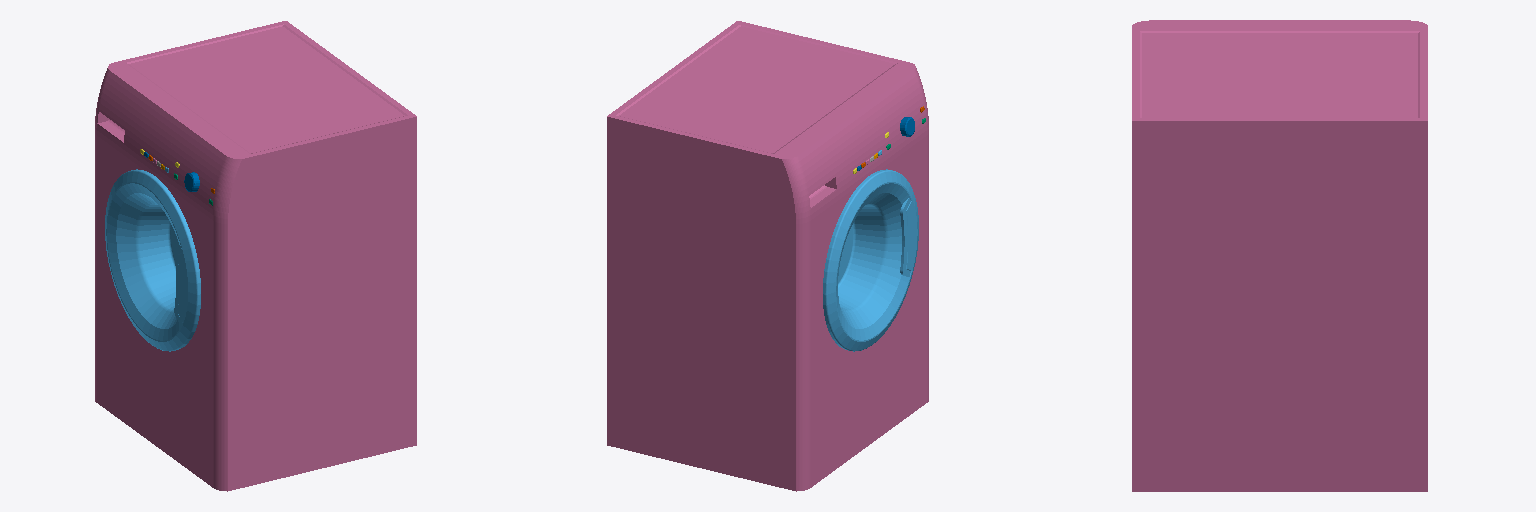
URDF robot description (partnet_5528ee64-7656-40e4-8db0-70fd39427b4d):
<robot name="partnet_5528ee64-7656-40e4-8db0-70fd39427b4d">
	<link name="base"><inertial><mass value="1.0" /><inertia ixx="0.1" ixy="0.0" ixz="0.0" iyy="0.1" iyz="0.0" izz="0.1" /></inertial></link>
	<link name="link_0">
		<visual name="door-1">
			<origin xyz="0.4072588466200967 0 -0.47978450750466395" />
			<geometry>
				<mesh filename="textured_objs/original-9.obj" />
			</geometry>
		</visual>
		<visual name="door-1">
			<origin xyz="0.4072588466200967 0 -0.47978450750466395" />
			<geometry>
				<mesh filename="textured_objs/original-6.obj" />
			</geometry>
		</visual>
		<visual name="door-1">
			<origin xyz="0.4072588466200967 0 -0.47978450750466395" />
			<geometry>
				<mesh filename="textured_objs/original-7.obj" />
			</geometry>
		</visual>
		<visual name="door-1">
			<origin xyz="0.4072588466200967 0 -0.47978450750466395" />
			<geometry>
				<mesh filename="textured_objs/original-8.obj" />
			</geometry>
		</visual>
		<inertial><mass value="1.0" /><inertia ixx="0.1" ixy="0.0" ixz="0.0" iyy="0.1" iyz="0.0" izz="0.1" /></inertial></link>
	<joint name="joint_0" type="fixed">
		<origin xyz="-0.4072588466200967 0 0.47978450750466395" />
		<axis xyz="0 -1 0" />
		<child link="link_0" />
		<parent link="link_13" />
		<limit lower="-0.0" upper="2.0169024836046465" />
	</joint>
	<link name="link_1">
		<visual name="button-2">
			<origin xyz="-0.4556865 -0.4984525393315501 0.04360297831185499" />
			<geometry>
				<mesh filename="textured_objs/original-62.obj" />
			</geometry>
		</visual>
		<inertial><mass value="1.0" /><inertia ixx="0.1" ixy="0.0" ixz="0.0" iyy="0.1" iyz="0.0" izz="0.1" /></inertial></link>
	<joint name="joint_1" type="fixed">
		<origin xyz="0.4556865 0.4984525393315501 -0.04360297831185499" />
		<axis xyz="0 -0.08714390893003397 -0.996195733345809" />
		<child link="link_1" />
		<parent link="link_13" />
		<limit lower="0" upper="0.0020000000000000035" />
	</joint>
	<link name="link_2">
		<visual name="button-3">
			<origin xyz="0.125865 -0.4984525393315501 0.04360297831185499" />
			<geometry>
				<mesh filename="textured_objs/original-64.obj" />
			</geometry>
		</visual>
		<inertial><mass value="1.0" /><inertia ixx="0.1" ixy="0.0" ixz="0.0" iyy="0.1" iyz="0.0" izz="0.1" /></inertial></link>
	<joint name="joint_2" type="fixed">
		<origin xyz="-0.125865 0.4984525393315501 -0.04360297831185499" />
		<axis xyz="0 -0.08714390893003396 -0.996195733345809" />
		<child link="link_2" />
		<parent link="link_13" />
		<limit lower="0" upper="0.0020000000000000035" />
	</joint>
	<link name="link_3">
		<visual name="button-4">
			<origin xyz="0.090793 -0.4984525393315501 0.04360297831185499" />
			<geometry>
				<mesh filename="textured_objs/original-66.obj" />
			</geometry>
		</visual>
		<inertial><mass value="1.0" /><inertia ixx="0.1" ixy="0.0" ixz="0.0" iyy="0.1" iyz="0.0" izz="0.1" /></inertial></link>
	<joint name="joint_3" type="fixed">
		<origin xyz="-0.090793 0.4984525393315501 -0.04360297831185499" />
		<axis xyz="0 -0.08714390893003396 -0.996195733345809" />
		<child link="link_3" />
		<parent link="link_13" />
		<limit lower="0" upper="0.0020000000000000035" />
	</joint>
	<link name="link_4">
		<visual name="button-5">
			<origin xyz="0.05572099999999999 -0.4984525393315501 0.04360297831185499" />
			<geometry>
				<mesh filename="textured_objs/original-59.obj" />
			</geometry>
		</visual>
		<inertial><mass value="1.0" /><inertia ixx="0.1" ixy="0.0" ixz="0.0" iyy="0.1" iyz="0.0" izz="0.1" /></inertial></link>
	<joint name="joint_4" type="fixed">
		<origin xyz="-0.05572099999999999 0.4984525393315501 -0.04360297831185499" />
		<axis xyz="0 -0.08714390893003397 -0.996195733345809" />
		<child link="link_4" />
		<parent link="link_13" />
		<limit lower="0" upper="0.0020000000000000035" />
	</joint>
	<link name="link_5">
		<visual name="button-6">
			<origin xyz="0.020648999999999997 -0.4984525393315501 0.04360297831185499" />
			<geometry>
				<mesh filename="textured_objs/original-65.obj" />
			</geometry>
		</visual>
		<inertial><mass value="1.0" /><inertia ixx="0.1" ixy="0.0" ixz="0.0" iyy="0.1" iyz="0.0" izz="0.1" /></inertial></link>
	<joint name="joint_5" type="fixed">
		<origin xyz="-0.020648999999999997 0.4984525393315501 -0.04360297831185499" />
		<axis xyz="0 -0.08714390893003397 -0.996195733345809" />
		<child link="link_5" />
		<parent link="link_13" />
		<limit lower="0" upper="0.0020000000000000035" />
	</joint>
	<link name="link_6">
		<visual name="button-7">
			<origin xyz="-0.014423 -0.4984525393315501 0.04360297831185499" />
			<geometry>
				<mesh filename="textured_objs/original-58.obj" />
			</geometry>
		</visual>
		<inertial><mass value="1.0" /><inertia ixx="0.1" ixy="0.0" ixz="0.0" iyy="0.1" iyz="0.0" izz="0.1" /></inertial></link>
	<joint name="joint_6" type="fixed">
		<origin xyz="0.014423 0.4984525393315501 -0.04360297831185499" />
		<axis xyz="0 -0.08714390893003397 -0.996195733345809" />
		<child link="link_6" />
		<parent link="link_13" />
		<limit lower="0" upper="0.0020000000000000035" />
	</joint>
	<link name="link_7">
		<visual name="button-8">
			<origin xyz="-0.049495 -0.4984525393315501 0.04360297831185499" />
			<geometry>
				<mesh filename="textured_objs/original-60.obj" />
			</geometry>
		</visual>
		<inertial><mass value="1.0" /><inertia ixx="0.1" ixy="0.0" ixz="0.0" iyy="0.1" iyz="0.0" izz="0.1" /></inertial></link>
	<joint name="joint_7" type="fixed">
		<origin xyz="0.049495 0.4984525393315501 -0.04360297831185499" />
		<axis xyz="0 -0.08714390893003397 -0.996195733345809" />
		<child link="link_7" />
		<parent link="link_13" />
		<limit lower="0" upper="0.0020000000000000035" />
	</joint>
	<link name="link_8">
		<visual name="button-9">
			<origin xyz="-0.084567 -0.4984525393315501 0.04360297831185499" />
			<geometry>
				<mesh filename="textured_objs/original-61.obj" />
			</geometry>
		</visual>
		<inertial><mass value="1.0" /><inertia ixx="0.1" ixy="0.0" ixz="0.0" iyy="0.1" iyz="0.0" izz="0.1" /></inertial></link>
	<joint name="joint_8" type="fixed">
		<origin xyz="0.084567 0.4984525393315501 -0.04360297831185499" />
		<axis xyz="0 -0.08714390893003396 -0.996195733345809" />
		<child link="link_8" />
		<parent link="link_13" />
		<limit lower="0" upper="0.0020000000000000035" />
	</joint>
	<link name="link_9">
		<visual name="button-10">
			<origin xyz="-0.156557 -0.4984525393315501 0.04360297831185499" />
			<geometry>
				<mesh filename="textured_objs/original-63.obj" />
			</geometry>
		</visual>
		<inertial><mass value="1.0" /><inertia ixx="0.1" ixy="0.0" ixz="0.0" iyy="0.1" iyz="0.0" izz="0.1" /></inertial></link>
	<joint name="joint_9" type="fixed">
		<origin xyz="0.156557 0.4984525393315501 -0.04360297831185499" />
		<axis xyz="0 -0.08714390893003397 -0.996195733345809" />
		<child link="link_9" />
		<parent link="link_13" />
		<limit lower="0" upper="0.0020000000000000035" />
	</joint>
	<link name="link_10">
		<visual name="button-11">
			<origin xyz="-0.156557 -0.49801977079211524 0.08782367958149805" />
			<geometry>
				<mesh filename="textured_objs/original-56.obj" />
			</geometry>
		</visual>
		<inertial><mass value="1.0" /><inertia ixx="0.1" ixy="0.0" ixz="0.0" iyy="0.1" iyz="0.0" izz="0.1" /></inertial></link>
	<joint name="joint_10" type="fixed">
		<origin xyz="0.156557 0.49801977079211524 -0.08782367958149805" />
		<axis xyz="0 -0.17366612922200184 -0.984804587500001" />
		<child link="link_10" />
		<parent link="link_13" />
		<limit lower="0" upper="0.0020000000000000035" />
	</joint>
	<link name="link_11">
		<visual name="button-12">
			<origin xyz="-0.30607317014334967 -0.4898544217803016 0.07758802282800027" />
			<geometry>
				<mesh filename="textured_objs/original-4.obj" />
			</geometry>
		</visual>
		<visual name="button-12">
			<origin xyz="-0.30607317014334967 -0.4898544217803016 0.07758802282800027" />
			<geometry>
				<mesh filename="textured_objs/original-3.obj" />
			</geometry>
		</visual>
		<inertial><mass value="1.0" /><inertia ixx="0.1" ixy="0.0" ixz="0.0" iyy="0.1" iyz="0.0" izz="0.1" /></inertial></link>
	<joint name="joint_11" type="fixed">
		<origin xyz="0.30607317014334967 0.4898544217803016 -0.07758802282800027" />
		<axis xyz="2.7204385384957507e-06 0.15643812216488145 0.9876877613528098" />
		<child link="link_11" />
		<parent link="link_13" />
	</joint>
	<link name="link_12">
		<visual name="button-13">
			<origin xyz="-0.4556865 -0.49801977079211524 0.08782367958149805" />
			<geometry>
				<mesh filename="textured_objs/original-55.obj" />
			</geometry>
		</visual>
		<inertial><mass value="1.0" /><inertia ixx="0.1" ixy="0.0" ixz="0.0" iyy="0.1" iyz="0.0" izz="0.1" /></inertial></link>
	<joint name="joint_12" type="fixed">
		<origin xyz="0.4556865 0.49801977079211524 -0.08782367958149805" />
		<axis xyz="0 -0.1736661292220018 -0.9848045875000009" />
		<child link="link_12" />
		<parent link="link_13" />
		<limit lower="0" upper="0.0020000000000000035" />
	</joint>
	<link name="link_13">
		<visual name="base_body-14">
			<origin xyz="0 0 0" />
			<geometry>
				<mesh filename="textured_objs/original-29.obj" />
			</geometry>
		</visual>
		<visual name="base_body-14">
			<origin xyz="0 0 0" />
			<geometry>
				<mesh filename="textured_objs/original-21.obj" />
			</geometry>
		</visual>
		<visual name="base_body-14">
			<origin xyz="0 0 0" />
			<geometry>
				<mesh filename="textured_objs/original-30.obj" />
			</geometry>
		</visual>
		<visual name="base_body-14">
			<origin xyz="0 0 0" />
			<geometry>
				<mesh filename="textured_objs/original-36.obj" />
			</geometry>
		</visual>
		<visual name="base_body-14">
			<origin xyz="0 0 0" />
			<geometry>
				<mesh filename="textured_objs/original-41.obj" />
			</geometry>
		</visual>
		<visual name="base_body-14">
			<origin xyz="0 0 0" />
			<geometry>
				<mesh filename="textured_objs/original-28.obj" />
			</geometry>
		</visual>
		<visual name="base_body-14">
			<origin xyz="0 0 0" />
			<geometry>
				<mesh filename="textured_objs/original-43.obj" />
			</geometry>
		</visual>
		<visual name="base_body-14">
			<origin xyz="0 0 0" />
			<geometry>
				<mesh filename="textured_objs/original-71.obj" />
			</geometry>
		</visual>
		<visual name="base_body-14">
			<origin xyz="0 0 0" />
			<geometry>
				<mesh filename="textured_objs/original-52.obj" />
			</geometry>
		</visual>
		<visual name="base_body-14">
			<origin xyz="0 0 0" />
			<geometry>
				<mesh filename="textured_objs/original-22.obj" />
			</geometry>
		</visual>
		<visual name="base_body-14">
			<origin xyz="0 0 0" />
			<geometry>
				<mesh filename="textured_objs/original-26.obj" />
			</geometry>
		</visual>
		<visual name="base_body-14">
			<origin xyz="0 0 0" />
			<geometry>
				<mesh filename="textured_objs/original-33.obj" />
			</geometry>
		</visual>
		<visual name="base_body-14">
			<origin xyz="0 0 0" />
			<geometry>
				<mesh filename="textured_objs/original-44.obj" />
			</geometry>
		</visual>
		<visual name="base_body-14">
			<origin xyz="0 0 0" />
			<geometry>
				<mesh filename="textured_objs/original-16.obj" />
			</geometry>
		</visual>
		<visual name="base_body-14">
			<origin xyz="0 0 0" />
			<geometry>
				<mesh filename="textured_objs/original-13.obj" />
			</geometry>
		</visual>
		<visual name="base_body-14">
			<origin xyz="0 0 0" />
			<geometry>
				<mesh filename="textured_objs/original-45.obj" />
			</geometry>
		</visual>
		<visual name="base_body-14">
			<origin xyz="0 0 0" />
			<geometry>
				<mesh filename="textured_objs/original-35.obj" />
			</geometry>
		</visual>
		<visual name="base_body-14">
			<origin xyz="0 0 0" />
			<geometry>
				<mesh filename="textured_objs/original-49.obj" />
			</geometry>
		</visual>
		<visual name="base_body-14">
			<origin xyz="0 0 0" />
			<geometry>
				<mesh filename="textured_objs/original-39.obj" />
			</geometry>
		</visual>
		<visual name="base_body-14">
			<origin xyz="0 0 0" />
			<geometry>
				<mesh filename="textured_objs/original-27.obj" />
			</geometry>
		</visual>
		<visual name="base_body-14">
			<origin xyz="0 0 0" />
			<geometry>
				<mesh filename="textured_objs/original-51.obj" />
			</geometry>
		</visual>
		<visual name="base_body-14">
			<origin xyz="0 0 0" />
			<geometry>
				<mesh filename="textured_objs/original-50.obj" />
			</geometry>
		</visual>
		<visual name="base_body-14">
			<origin xyz="0 0 0" />
			<geometry>
				<mesh filename="textured_objs/original-31.obj" />
			</geometry>
		</visual>
		<visual name="base_body-14">
			<origin xyz="0 0 0" />
			<geometry>
				<mesh filename="textured_objs/original-37.obj" />
			</geometry>
		</visual>
		<visual name="base_body-14">
			<origin xyz="0 0 0" />
			<geometry>
				<mesh filename="textured_objs/original-48.obj" />
			</geometry>
		</visual>
		<visual name="base_body-14">
			<origin xyz="0 0 0" />
			<geometry>
				<mesh filename="textured_objs/original-15.obj" />
			</geometry>
		</visual>
		<visual name="base_body-14">
			<origin xyz="0 0 0" />
			<geometry>
				<mesh filename="textured_objs/original-23.obj" />
			</geometry>
		</visual>
		<visual name="base_body-14">
			<origin xyz="0 0 0" />
			<geometry>
				<mesh filename="textured_objs/original-69.obj" />
			</geometry>
		</visual>
		<visual name="base_body-14">
			<origin xyz="0 0 0" />
			<geometry>
				<mesh filename="textured_objs/original-11.obj" />
			</geometry>
		</visual>
		<visual name="base_body-14">
			<origin xyz="0 0 0" />
			<geometry>
				<mesh filename="textured_objs/original-38.obj" />
			</geometry>
		</visual>
		<visual name="base_body-14">
			<origin xyz="0 0 0" />
			<geometry>
				<mesh filename="textured_objs/original-68.obj" />
			</geometry>
		</visual>
		<visual name="base_body-14">
			<origin xyz="0 0 0" />
			<geometry>
				<mesh filename="textured_objs/original-34.obj" />
			</geometry>
		</visual>
		<visual name="base_body-14">
			<origin xyz="0 0 0" />
			<geometry>
				<mesh filename="textured_objs/original-18.obj" />
			</geometry>
		</visual>
		<visual name="base_body-14">
			<origin xyz="0 0 0" />
			<geometry>
				<mesh filename="textured_objs/original-70.obj" />
			</geometry>
		</visual>
		<visual name="base_body-14">
			<origin xyz="0 0 0" />
			<geometry>
				<mesh filename="textured_objs/original-25.obj" />
			</geometry>
		</visual>
		<visual name="base_body-14">
			<origin xyz="0 0 0" />
			<geometry>
				<mesh filename="textured_objs/original-17.obj" />
			</geometry>
		</visual>
		<visual name="base_body-14">
			<origin xyz="0 0 0" />
			<geometry>
				<mesh filename="textured_objs/original-12.obj" />
			</geometry>
		</visual>
		<visual name="base_body-14">
			<origin xyz="0 0 0" />
			<geometry>
				<mesh filename="textured_objs/original-42.obj" />
			</geometry>
		</visual>
		<visual name="base_body-14">
			<origin xyz="0 0 0" />
			<geometry>
				<mesh filename="textured_objs/original-24.obj" />
			</geometry>
		</visual>
		<visual name="base_body-14">
			<origin xyz="0 0 0" />
			<geometry>
				<mesh filename="textured_objs/original-20.obj" />
			</geometry>
		</visual>
		<visual name="base_body-14">
			<origin xyz="0 0 0" />
			<geometry>
				<mesh filename="textured_objs/original-32.obj" />
			</geometry>
		</visual>
		<visual name="base_body-14">
			<origin xyz="0 0 0" />
			<geometry>
				<mesh filename="textured_objs/original-47.obj" />
			</geometry>
		</visual>
		<visual name="base_body-14">
			<origin xyz="0 0 0" />
			<geometry>
				<mesh filename="textured_objs/original-1.obj" />
			</geometry>
		</visual>
		<visual name="base_body-14">
			<origin xyz="0 0 0" />
			<geometry>
				<mesh filename="textured_objs/original-14.obj" />
			</geometry>
		</visual>
		<visual name="base_body-14">
			<origin xyz="0 0 0" />
			<geometry>
				<mesh filename="textured_objs/original-19.obj" />
			</geometry>
		</visual>
		<visual name="base_body-14">
			<origin xyz="0 0 0" />
			<geometry>
				<mesh filename="textured_objs/original-40.obj" />
			</geometry>
		</visual>
		<visual name="base_body-14">
			<origin xyz="0 0 0" />
			<geometry>
				<mesh filename="textured_objs/original-46.obj" />
			</geometry>
		</visual>
		<inertial><mass value="1.0" /><inertia ixx="0.1" ixy="0.0" ixz="0.0" iyy="0.1" iyz="0.0" izz="0.1" /></inertial></link>
	<joint name="joint_13" type="fixed">
		<origin rpy="1.570796326794897 0 -1.570796326794897" xyz="0 0 0" />
		<child link="link_13" />
		<parent link="base" />
	</joint>
</robot>

--- What the picture shows (computed from the rendered views, not written in the file) ---
The picture shows the robot from 3 angles, left to right: view 1: azimuth 30°, elevation 25°; view 2: azimuth 150°, elevation 25°; view 3: azimuth 270°, elevation 25°; orthographic projection.
Model partnet_5528ee64-7656-40e4-8db0-70fd39427b4d with 15 links and 14 joints (14 fixed), rooted at base, posed all joints at 0.
Visible links, largest first — view 1: link_13, link_0; view 2: link_13, link_0; view 3: link_13.
Link boxes in pixels (x1=…): link_13: x1=95, y1=21, x2=416, y2=491; link_0: x1=105, y1=169, x2=200, y2=351; link_13: x1=607, y1=21, x2=928, y2=491; link_0: x1=823, y1=169, x2=918, y2=351; link_13: x1=1132, y1=20, x2=1427, y2=491.
Bounding box of the posed robot: 0.9968 × 1.11 × 1.53 m (x, y, z).
64 mesh visuals loaded from 64 distinct referenced files (64 OBJ).
